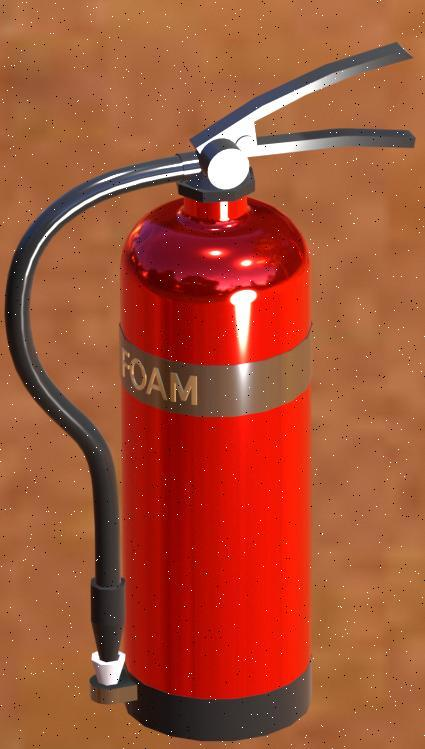Fire Extinguisher: (0, 22, 425, 748)
